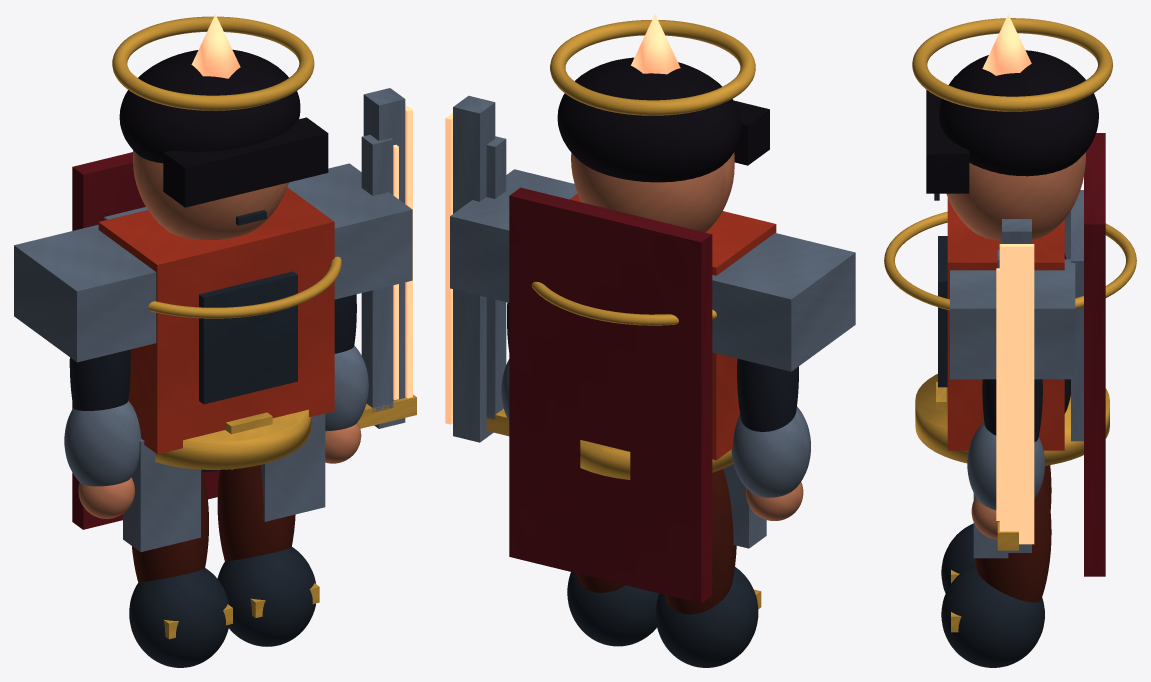
Rendered from Mastery.glb.
3 views of the same model, side by side, from view 1: azimuth 30°, elevation 25°; view 2: azimuth 150°, elevation 25°; view 3: azimuth 270°, elevation 25° (orthographic). The views are drawn at different scales.
Parts seen in each view (by area): view 1: ChestPlate, SegmentedPauldron, Hair, ChestInset, SegmentedPauldron.001, HairFringe, Boot, Boot.001, CrownRing, Tasset, Head, SwordBlade (+18 smaller); view 2: Cape, SegmentedPauldron, Hair, Greatsword, SegmentedPauldron.001, CrownRing, Head, Boot, ChestPlate, Gauntlet, Boot.001, Arm (+9 smaller); view 3: Hair, GreatswordEdge, SegmentedPauldron.001, Cape, ChestPlate, Boot.001, Head, CrownRing, Leg.001, WaistGuard, HairFringe, ShoulderCrest (+11 smaller).
Part boxes in pixels (x1,y1,x2,y2): ChestPlate: [98, 187, 334, 454]; SegmentedPauldron: [14, 224, 156, 362]; Hair: [119, 49, 300, 163]; ChestInset: [199, 271, 297, 404]; SegmentedPauldron.001: [287, 163, 412, 299]; HairFringe: [163, 117, 328, 207]; Boot: [129, 568, 229, 667]; Boot.001: [217, 547, 315, 646]; CrownRing: [112, 16, 314, 110]; Tasset: [123, 439, 200, 552]; Head: [132, 150, 288, 239]; SwordBlade: [361, 134, 393, 412]; Cape: [509, 187, 712, 603]; SegmentedPauldron: [712, 233, 855, 371]; Hair: [557, 57, 741, 182]; Greatsword: [453, 95, 495, 442]; SegmentedPauldron.001: [450, 169, 577, 302]; CrownRing: [550, 20, 755, 115]; Head: [571, 152, 734, 232]; Boot: [655, 567, 758, 667]; ChestPlate: [569, 194, 776, 460]; Gauntlet: [731, 406, 810, 497]; Boot.001: [567, 572, 658, 646]; Arm: [737, 358, 798, 431]; Hair: [939, 50, 1098, 176]; GreatswordEdge: [999, 244, 1034, 544]; SegmentedPauldron.001: [950, 259, 1075, 379]; Cape: [1084, 133, 1105, 576]; ChestPlate: [947, 197, 1064, 450]; Boot.001: [941, 564, 1044, 667]; Head: [946, 152, 1085, 241]; CrownRing: [912, 18, 1112, 111]; Leg.001: [975, 475, 1051, 602]; WaistGuard: [915, 374, 1109, 465]; HairFringe: [926, 90, 969, 193]; ShoulderCrest: [884, 211, 1136, 310].
Size of the model in its own units: 1.93 by 3.21 by 1.17.
Materials: 12 (9 with a texture image).
